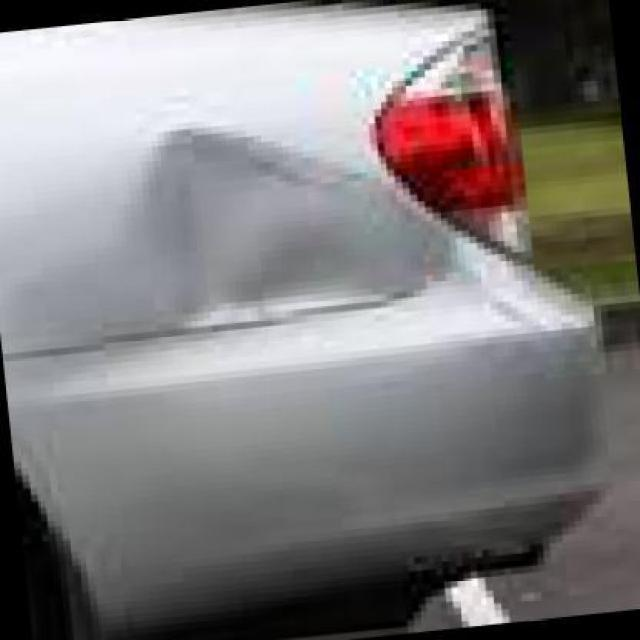dent: (149, 131, 448, 314)
